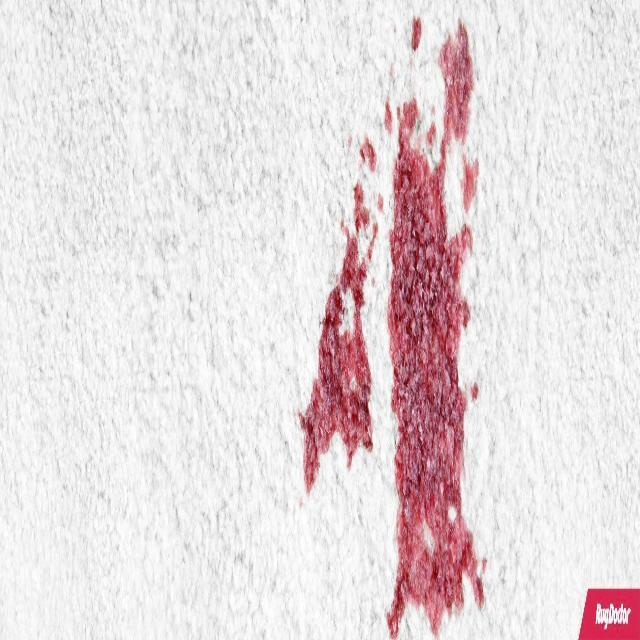flood: (382, 91, 484, 634), (296, 196, 378, 502)
